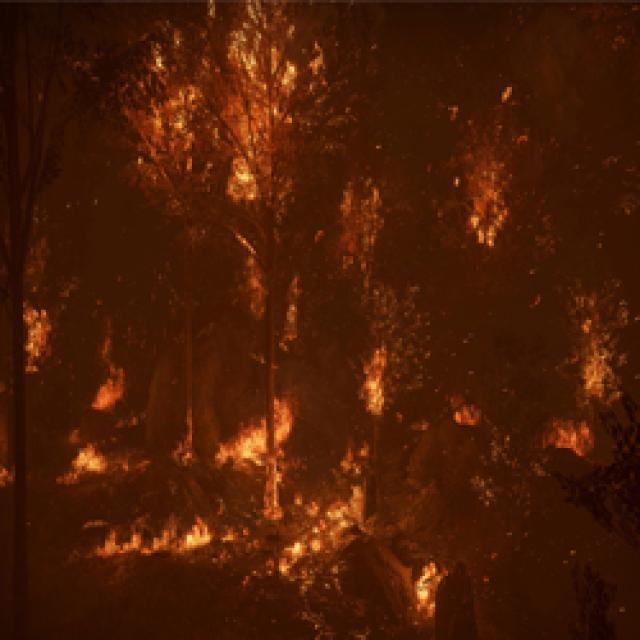Fire: (222, 0, 330, 205), (278, 426, 372, 588), (133, 34, 202, 178), (332, 170, 388, 286), (466, 116, 510, 252), (93, 514, 234, 554), (217, 399, 294, 463), (576, 313, 610, 404), (231, 522, 276, 588), (93, 324, 124, 412), (18, 299, 54, 374), (250, 460, 288, 525), (354, 343, 384, 415), (404, 558, 438, 614), (542, 419, 594, 454), (61, 448, 106, 486), (176, 410, 196, 464), (446, 397, 476, 427)
